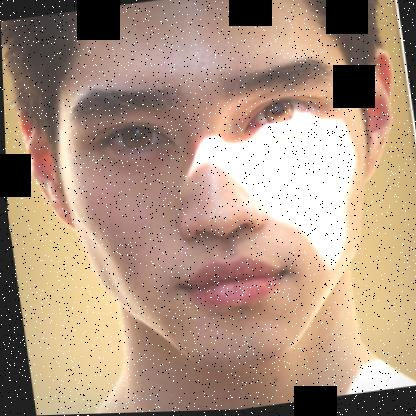Male: (1, 0, 416, 390)
